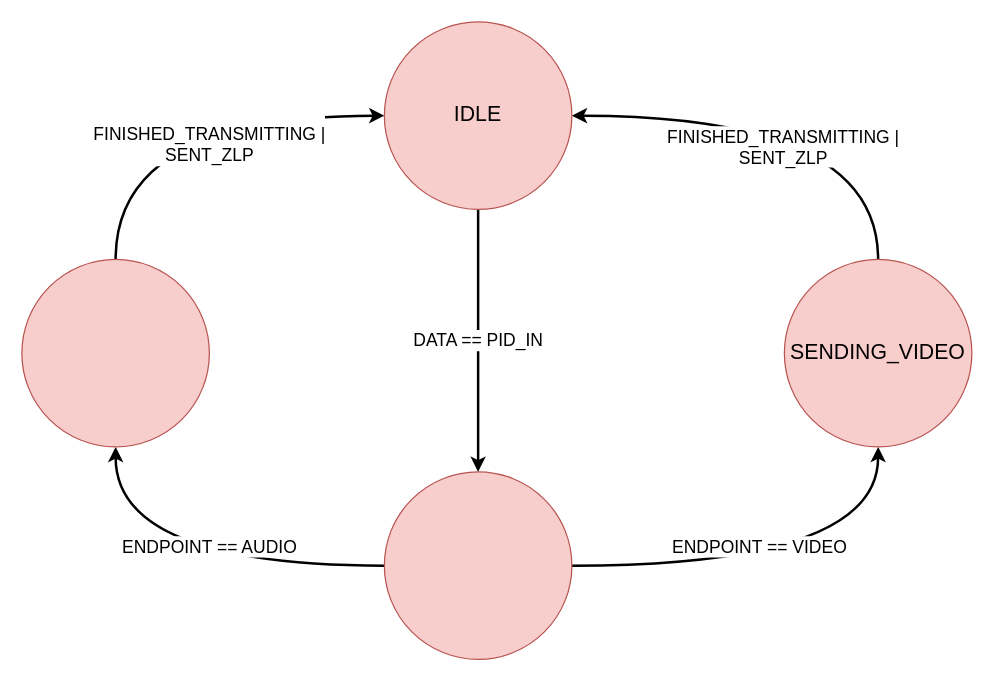
Some shapes in this 994 by 681 pixel diagram are drawn without their labels. The centre of each missing label's shape, as x and y in pixels:
RECEIVED_ IN_PACKET: point (477, 565)
SENDING_AUDIO: point (115, 352)
